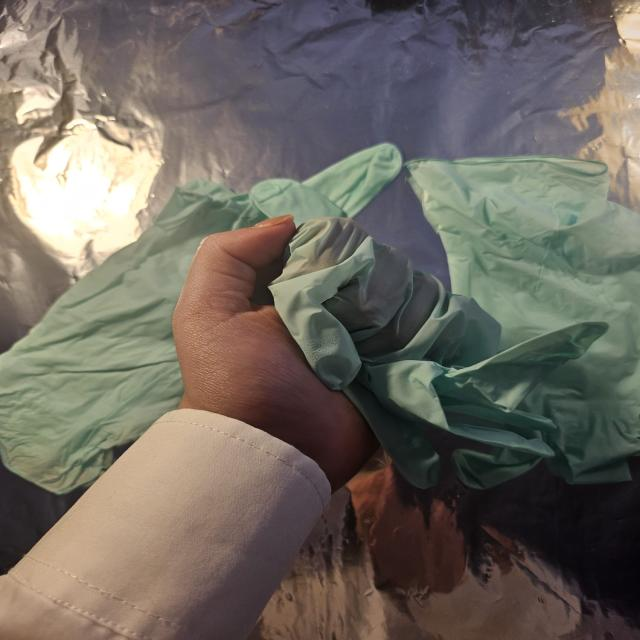glove_partial: (173, 214, 606, 493)
